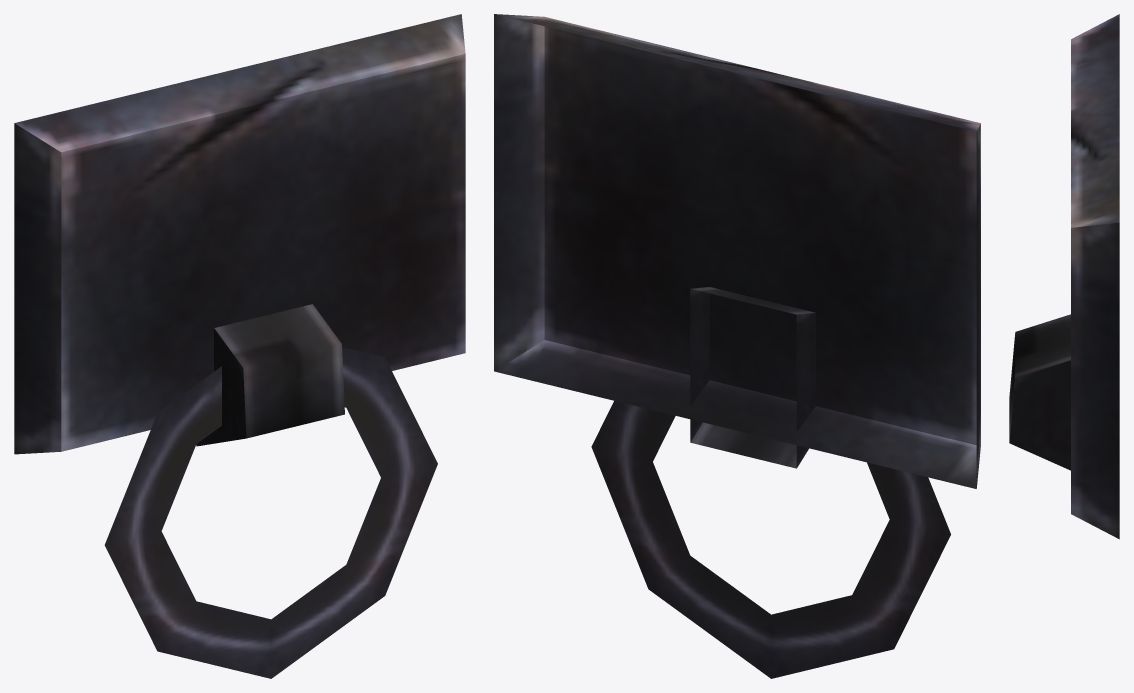
File: B_huan001.fbx
The picture shows the model from 3 angles, left to right: view 1: azimuth 30°, elevation 25°; view 2: azimuth 150°, elevation 25°; view 3: azimuth 270°, elevation 25°; orthographic projection. The views are drawn at different scales.
Parts seen in each view (by area): view 1: B_huan001; view 2: B_huan001; view 3: B_huan001.
Boxes of the visible parts, box(x1,y1,x2,y2) form: B_huan001: box(14, 14, 465, 678); B_huan001: box(494, 14, 980, 678); B_huan001: box(1009, 14, 1119, 539).
Bounding box in the file's own units: 46.35 × 58.03 × 10.35.
